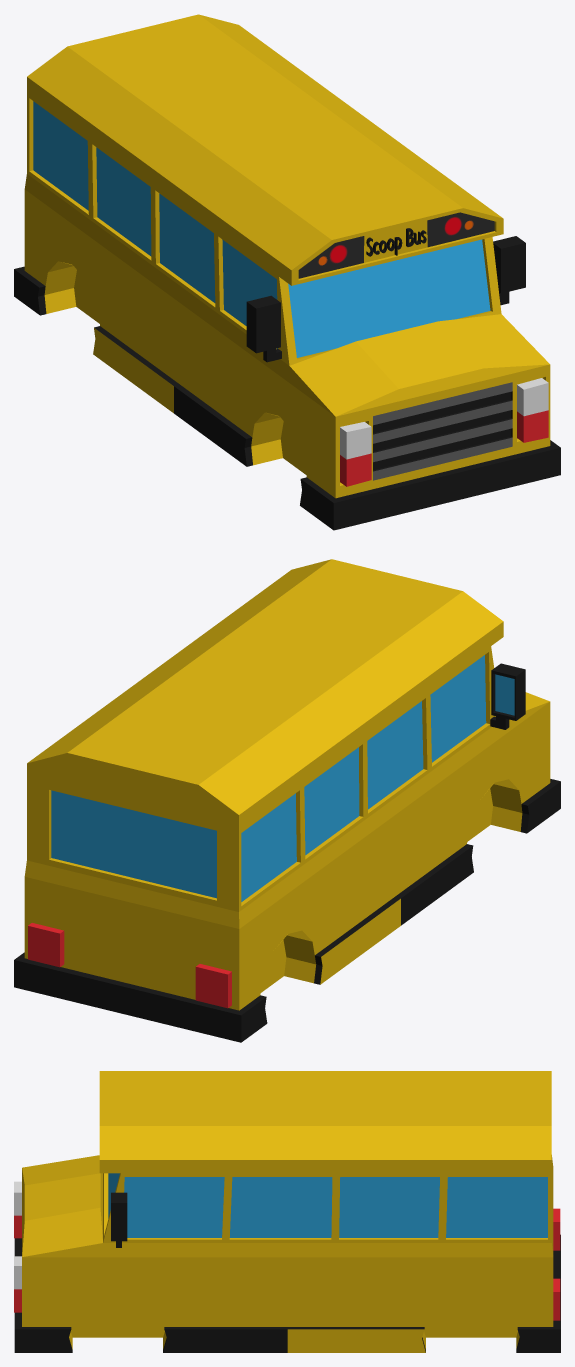
File: bus.glb
3 renders of one model, top to bottom at view 1: azimuth 30°, elevation 25°; view 2: azimuth 150°, elevation 25°; view 3: azimuth 270°, elevation 25°, orthographic. The views are drawn at different scales.
Visible parts, largest first — view 1: Cube.004; view 2: Cube.004; view 3: Cube.004.
Boxes of the visible parts, left/top/right/bottom form: Cube.004: left=14, top=14, right=560, bottom=530; Cube.004: left=14, top=559, right=560, bottom=1042; Cube.004: left=14, top=1071, right=560, bottom=1352.
Bounding box in the file's own units: 4.97 × 4.26 × 10.21.
7 materials, 1 textured.
